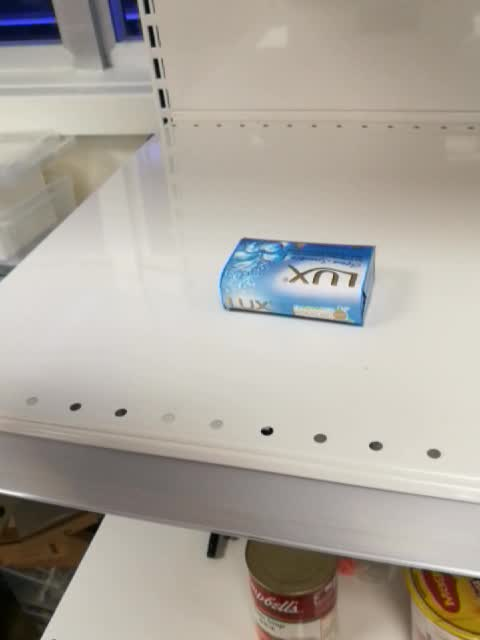soap: (217, 237, 377, 329)
